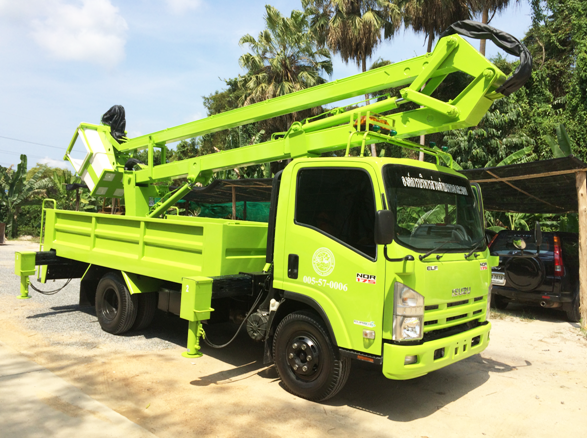truck: (14, 33, 509, 404)
